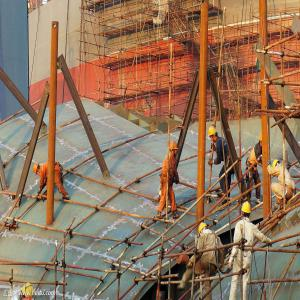yellow: (21, 284, 34, 298), (198, 222, 209, 237), (243, 202, 252, 219), (171, 140, 179, 156), (210, 127, 218, 143), (259, 133, 267, 148), (34, 164, 41, 177), (273, 160, 281, 171)
